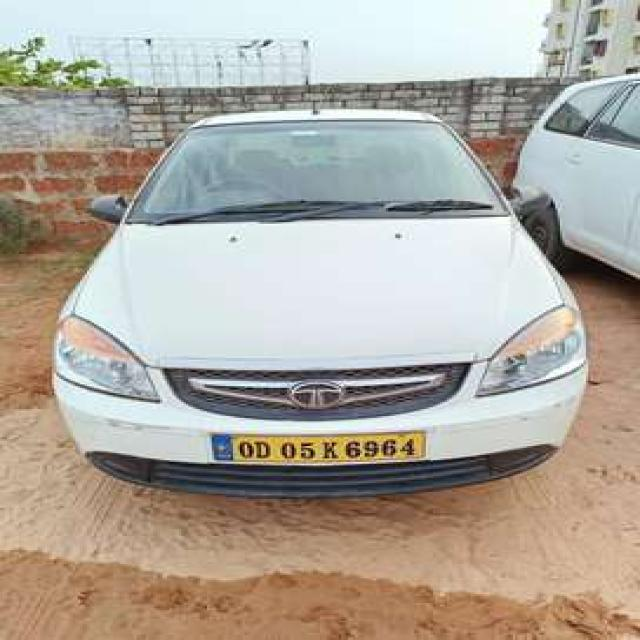licenseplate: (220, 431, 424, 463)
